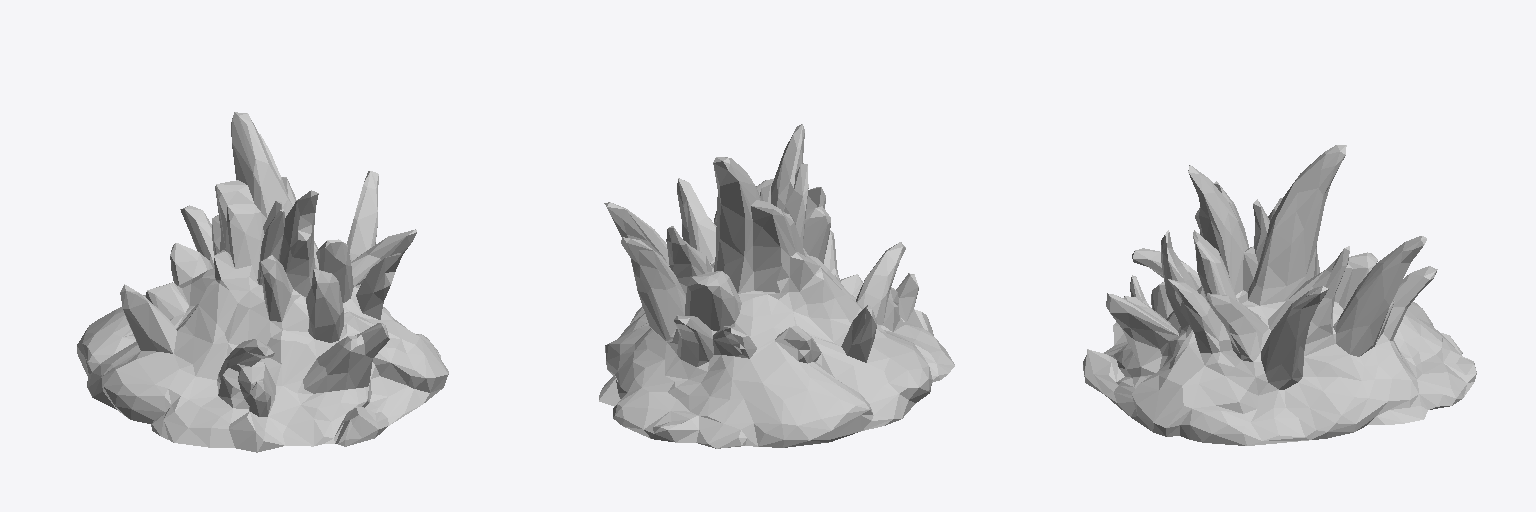
The model's file is SM_CrystalMetal_04.obj.
The picture shows the model from 3 angles: view 1: azimuth 30°, elevation 25°; view 2: azimuth 150°, elevation 25°; view 3: azimuth 270°, elevation 25°; orthographic projection.
Parts seen in each view (by area): view 1: CrystalMetal_04; view 2: CrystalMetal_04; view 3: CrystalMetal_04.
Boxes of the visible parts, x1=… form: CrystalMetal_04: x1=77, y1=112, x2=448, y2=452; CrystalMetal_04: x1=599, y1=124, x2=954, y2=448; CrystalMetal_04: x1=1083, y1=145, x2=1476, y2=445.
Bounding box in the file's own units: 299 × 219 × 335.